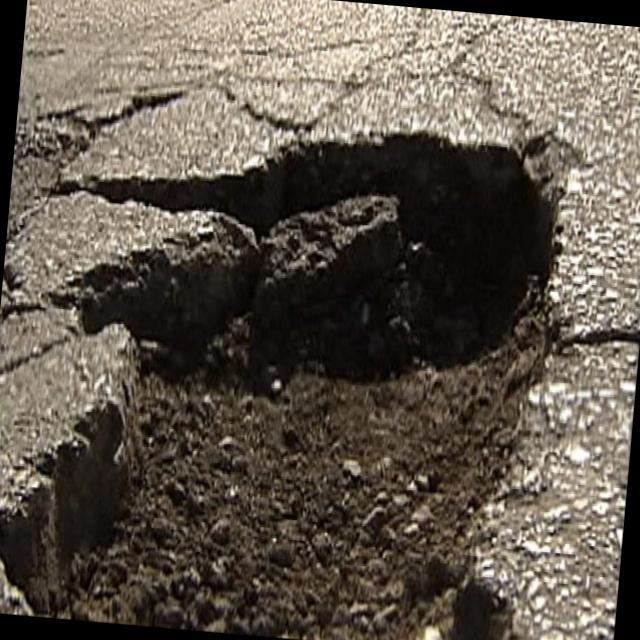Pothole: (0, 88, 578, 640)
